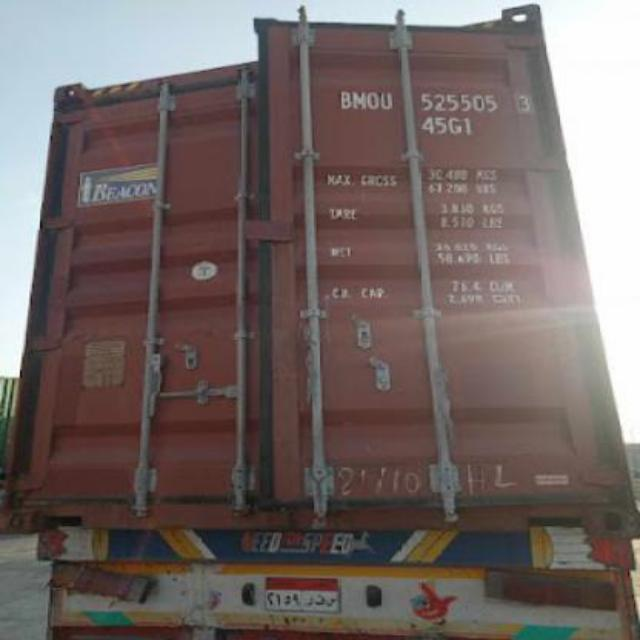0: (470, 88, 486, 116)
2: (432, 89, 446, 115)
3: (516, 88, 532, 116)
5: (458, 89, 472, 115), (486, 88, 499, 114), (420, 88, 432, 114), (446, 90, 458, 114)
B: (338, 82, 352, 114)
M: (352, 86, 368, 116)
O: (366, 82, 379, 111)
U: (378, 88, 396, 114)
